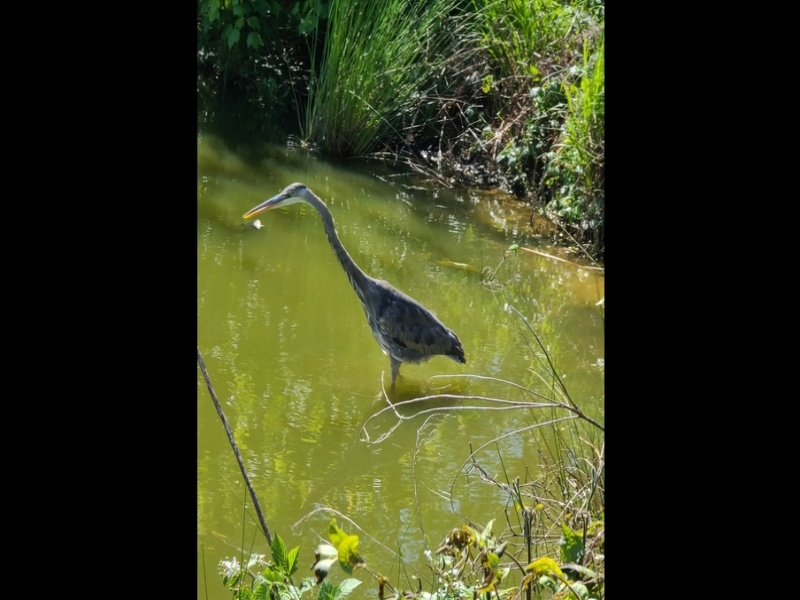heron: (244, 177, 471, 407)
